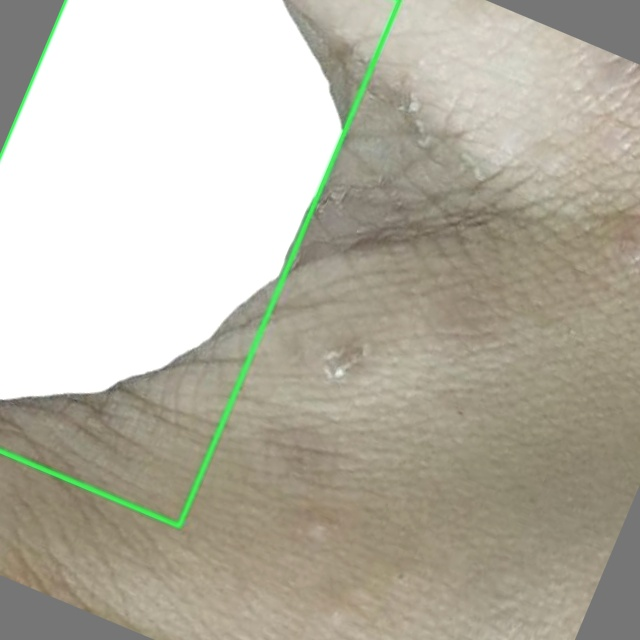Scabies: (0, 0, 399, 526)
